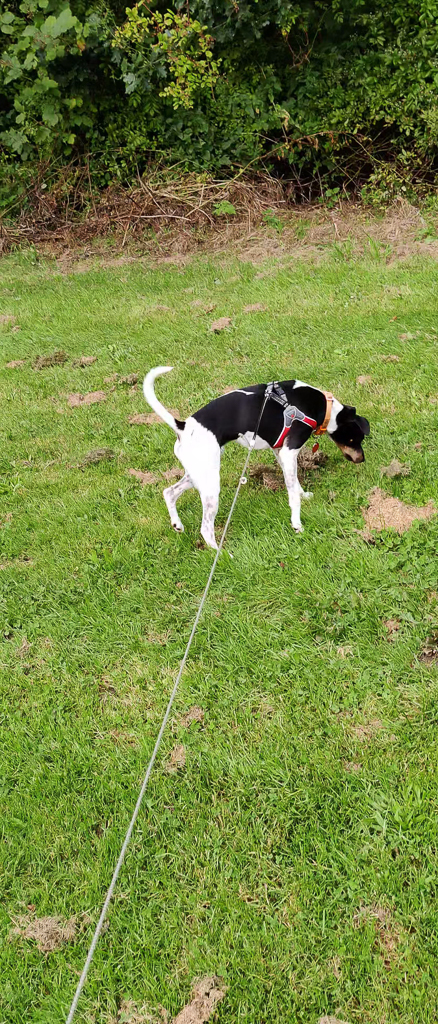Dog: (132, 358, 381, 557)
